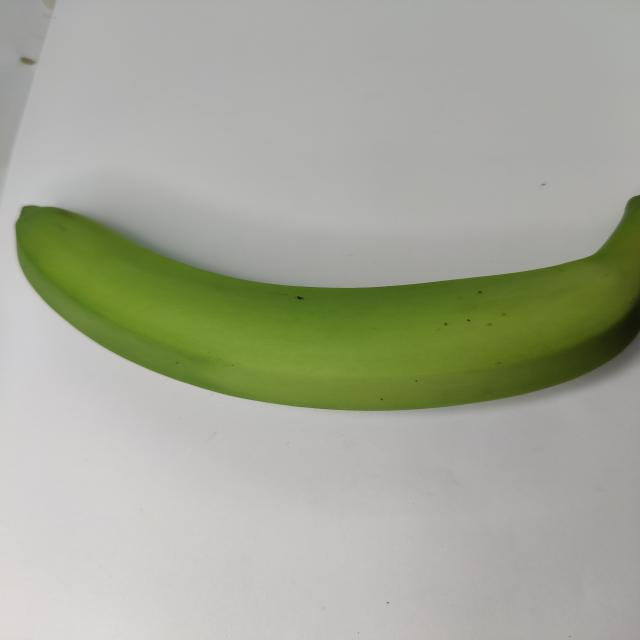raw: (0, 139, 640, 450)
